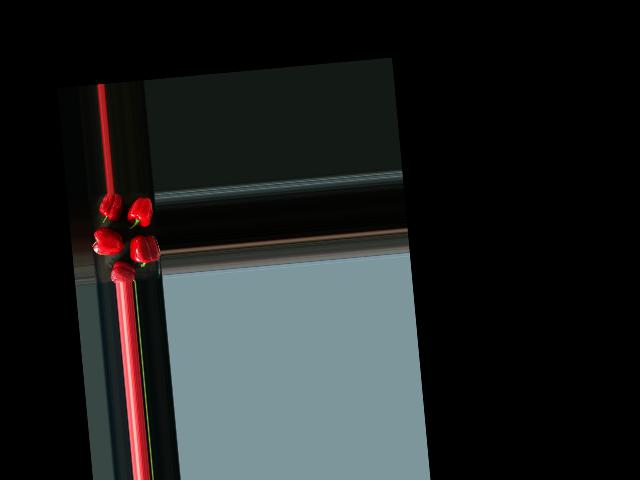bell_pepper: (104, 258, 137, 283)
